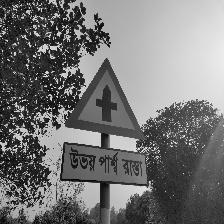Crossroad: (58, 49, 154, 190)
